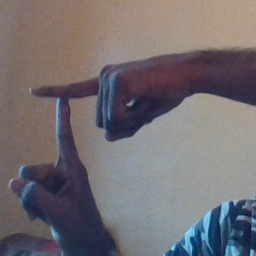T: (18, 58, 126, 196)
